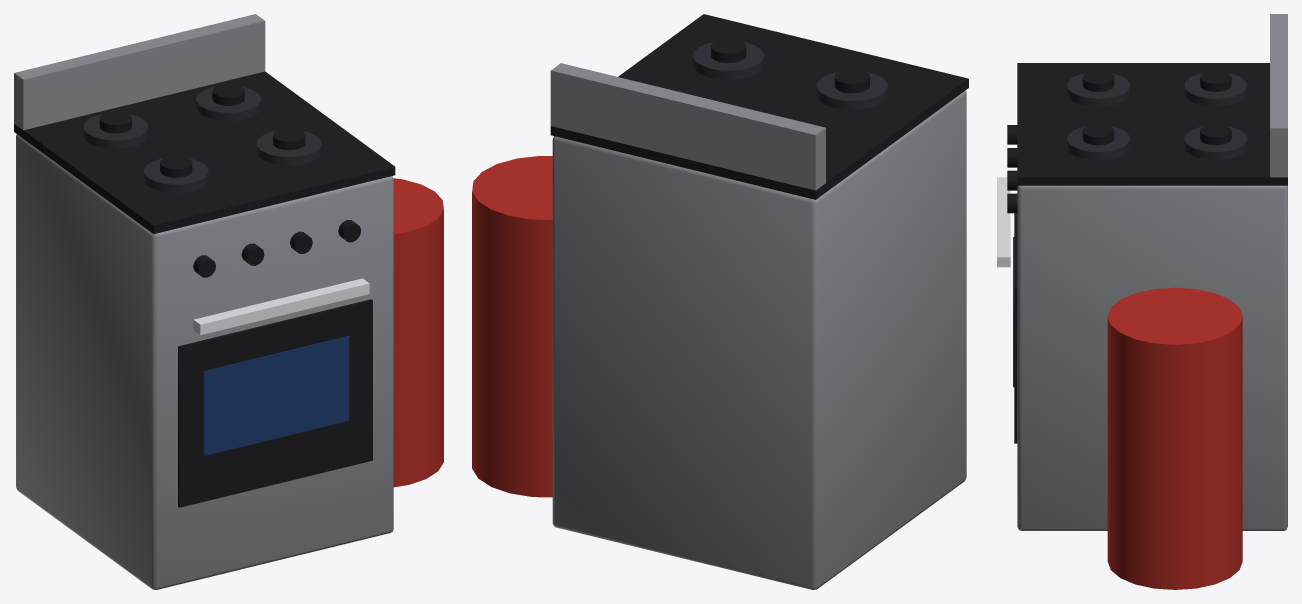
Rendered from fur_cooker.glb.
The picture shows the model from 3 angles, left to right: view 1: azimuth 30°, elevation 25°; view 2: azimuth 150°, elevation 25°; view 3: azimuth 270°, elevation 25°; orthographic projection. The views are drawn at different scales.
Parts seen in each view (by area): view 1: FUR_cooker; view 2: FUR_cooker; view 3: FUR_cooker.
Part boxes in pixels (box(x1,y1,x2,y2)): FUR_cooker: box(14, 14, 443, 589); FUR_cooker: box(472, 14, 968, 589); FUR_cooker: box(997, 14, 1287, 589).
Bounding box in the file's own units: 0.9 × 0.99 × 0.645.
4 materials, 1 textured.
